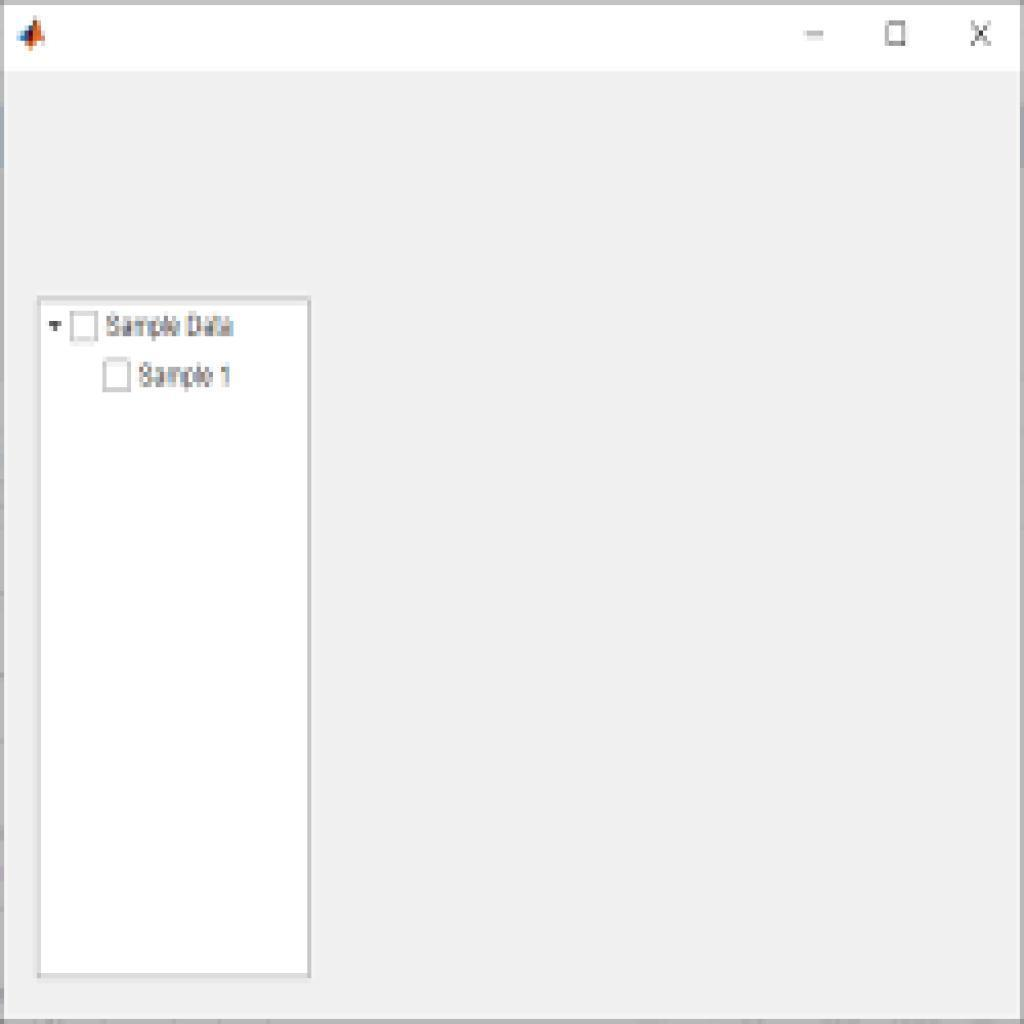checkbox: (102, 360, 134, 389), (69, 311, 98, 340)
